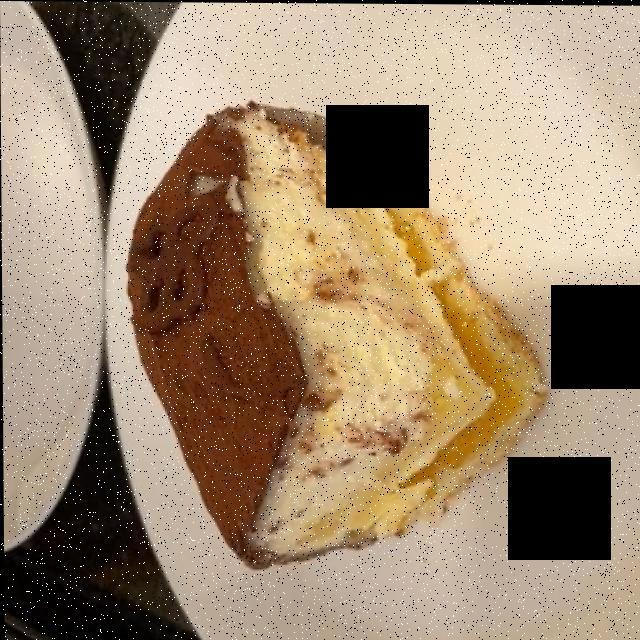cocoa-powder: (134, 119, 300, 550)
jam: (390, 197, 511, 482)
tart: (250, 124, 537, 562)
